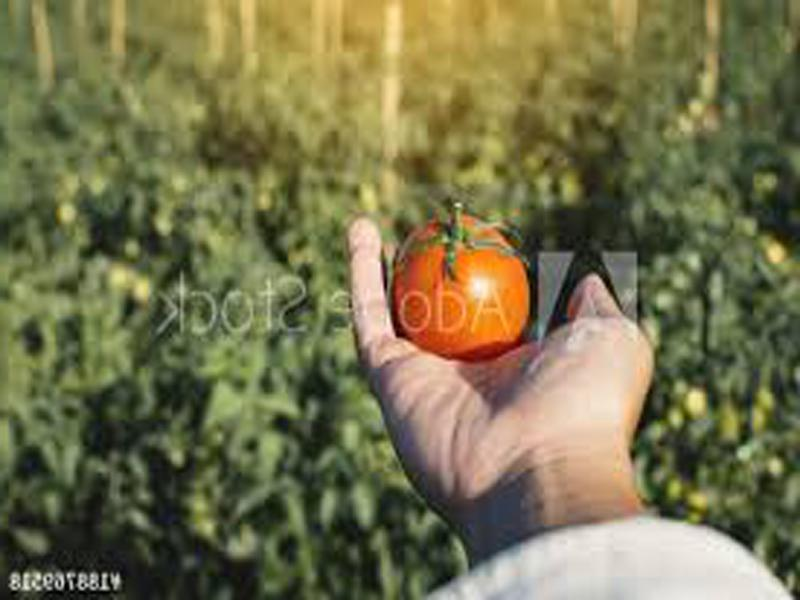Tomato: (389, 216, 526, 354)
